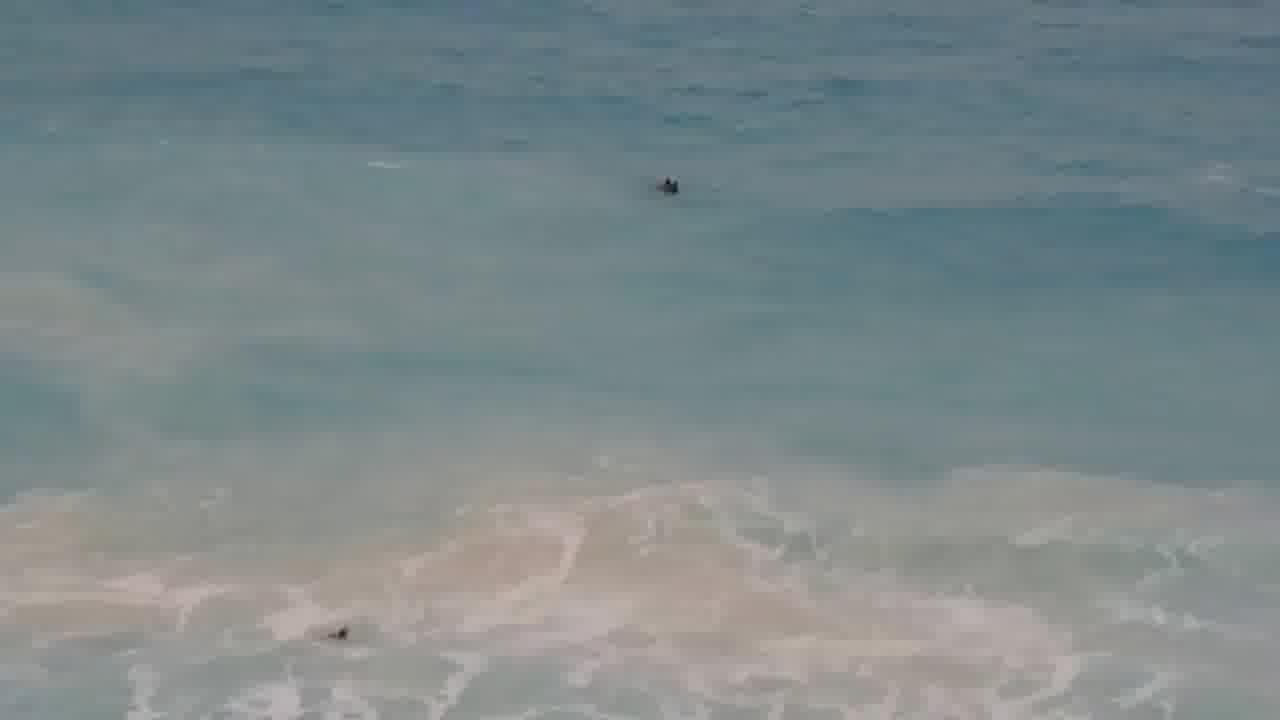human: (643, 171, 693, 205)
